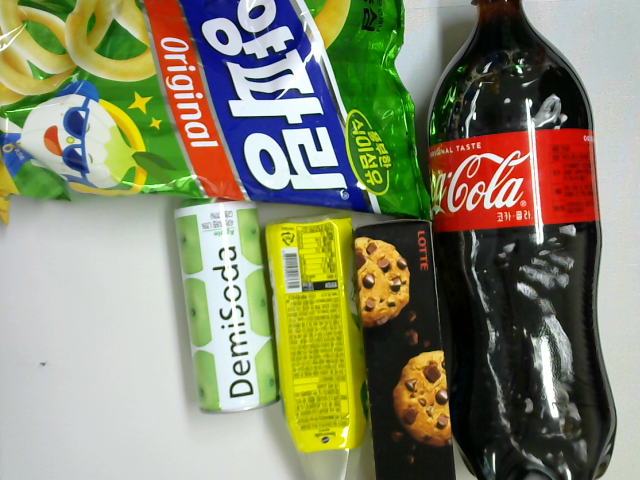Chicchok_Original_2400: (352, 217, 458, 480)
Coca_Cola_1.5L: (425, 1, 618, 480)
Demisoda_Apple_Can_250ml: (173, 199, 282, 416)
Oninon_Ring: (1, 1, 433, 240)
Sunkist_Lemonaid_Pet: (263, 210, 373, 480)
